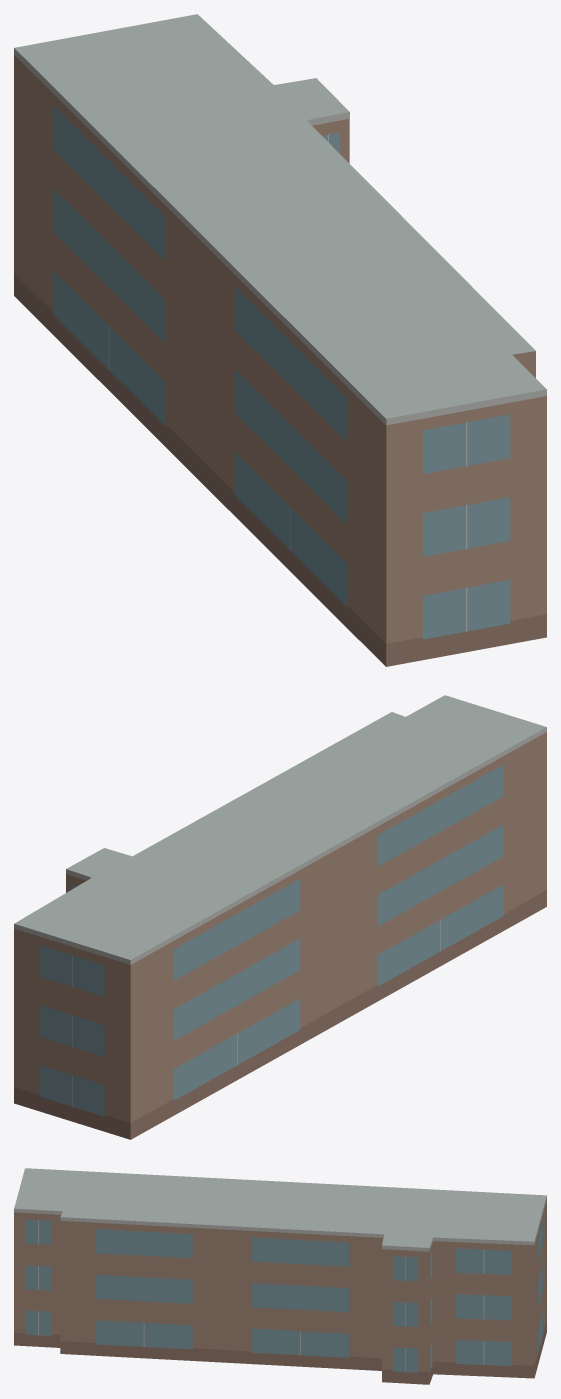
The model's file is survey-upis-32974721.glb.
The picture shows the model from 3 angles, top to bottom: view 1: azimuth 30°, elevation 25°; view 2: azimuth 150°, elevation 25°; view 3: azimuth 270°, elevation 25°; orthographic projection. The views are drawn at different scales.
Visible parts, largest first — view 1: survey-upis-32974721.tmp; view 2: survey-upis-32974721.tmp; view 3: survey-upis-32974721.tmp.
Boxes of the visible parts, left/top/right/bottom form: survey-upis-32974721.tmp: left=14, top=14, right=546, bottom=666; survey-upis-32974721.tmp: left=14, top=695, right=546, bottom=1139; survey-upis-32974721.tmp: left=14, top=1168, right=546, bottom=1384.
Bounding box in the file's own units: 11.48 × 9.15 × 32.32.
